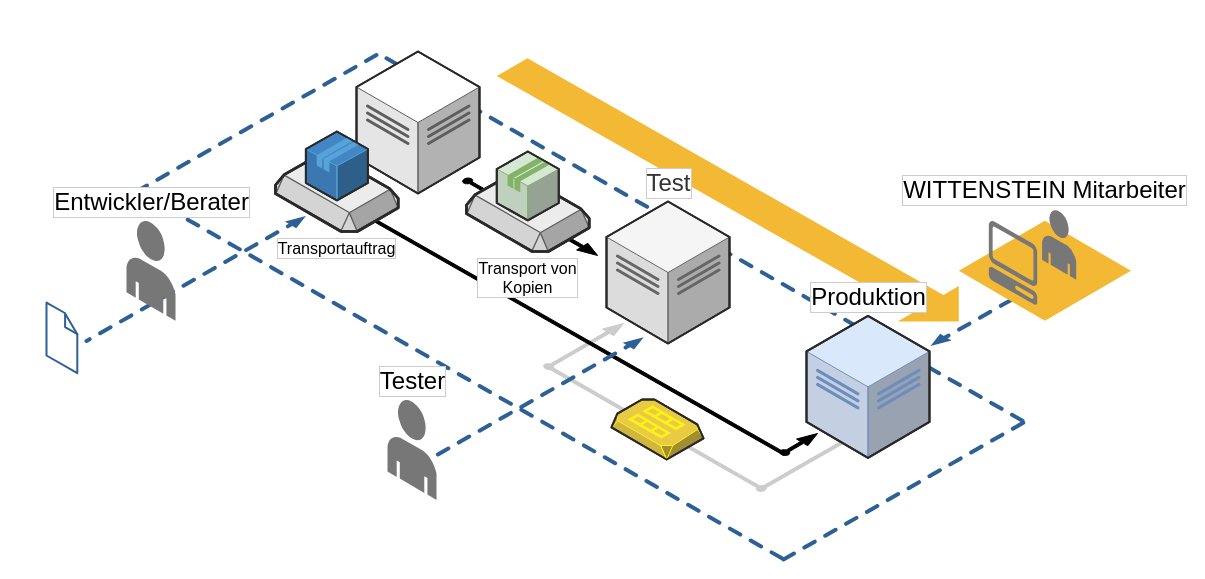
Some shapes in this 1205 by 579 pixel diagram are drawn without their labels. The shapes that lost their labels are listed below. From the top down, each one's centre as x and y in pixels, then its label:
At (418,122): "Entwicklung".
At (61,337): "Anforderung".
At (657,429): "Systemkopie".
